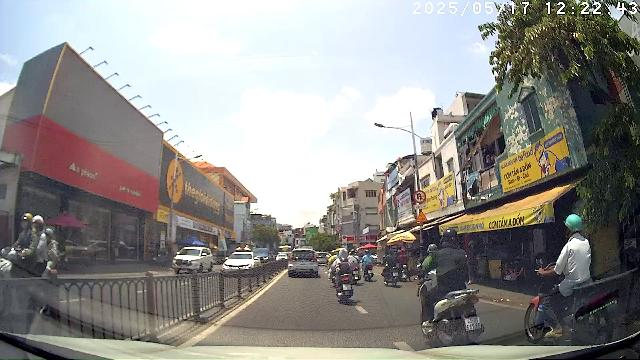124b-cam-oto-quay-dau-xe: (413, 190, 427, 203)
